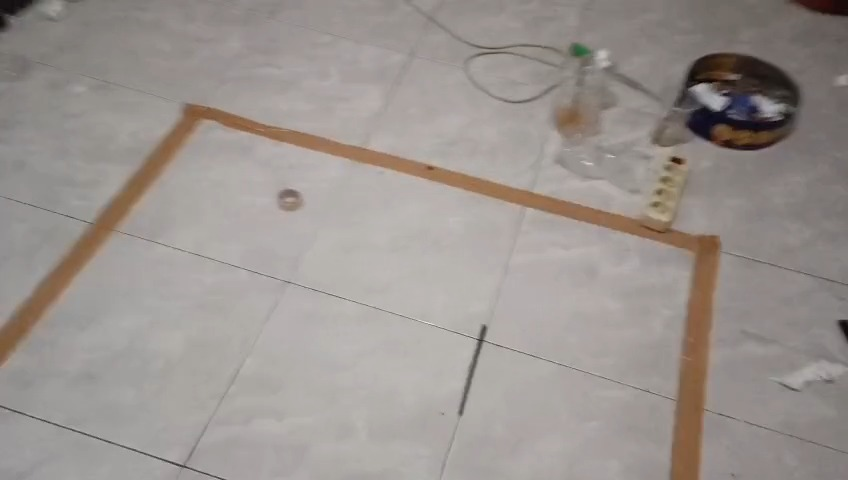floor marking: (0, 104, 720, 479)
